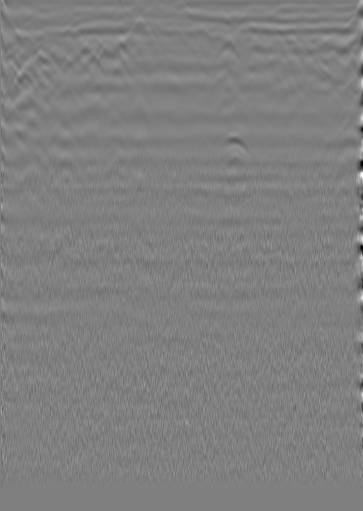가스: (217, 132, 251, 160)
상수: (315, 38, 335, 58)
오수: (32, 48, 52, 68)
우수: (133, 14, 153, 34)
